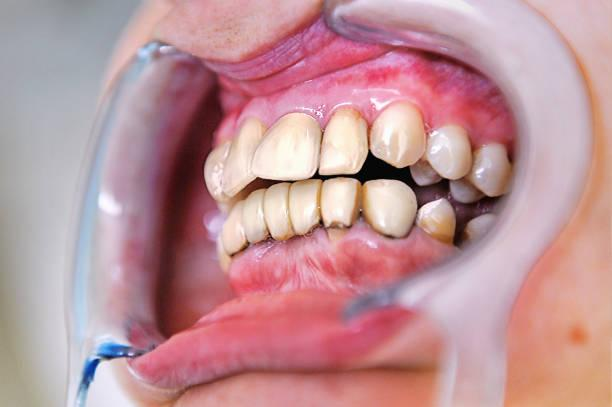Calculus: (369, 100, 431, 166), (357, 182, 424, 243), (316, 178, 364, 238), (414, 192, 461, 246)
